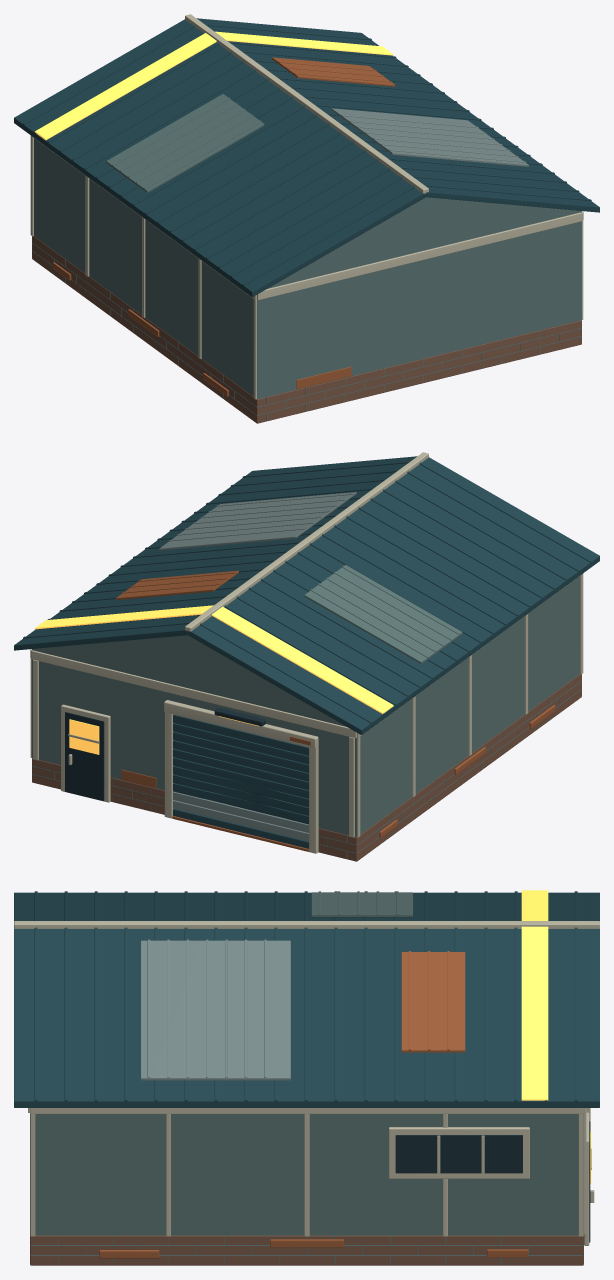
Rendered from d08_workshop_buildings_01.glb.
The picture shows the model from 3 angles, top to bottom: view 1: azimuth 30°, elevation 25°; view 2: azimuth 150°, elevation 25°; view 3: azimuth 270°, elevation 25°; orthographic projection. The views are drawn at different scales.
Visible parts, largest first — view 1: D08WorkshopBuildings01_Mesh; view 2: D08WorkshopBuildings01_Mesh; view 3: D08WorkshopBuildings01_Mesh.
Boxes of the visible parts, <box> form: D08WorkshopBuildings01_Mesh: <box>14,14,599,423</box>; D08WorkshopBuildings01_Mesh: <box>14,452,599,861</box>; D08WorkshopBuildings01_Mesh: <box>14,890,599,1265</box>.
Bounding box in the file's own units: 10.7 × 5.88 × 12.7.
